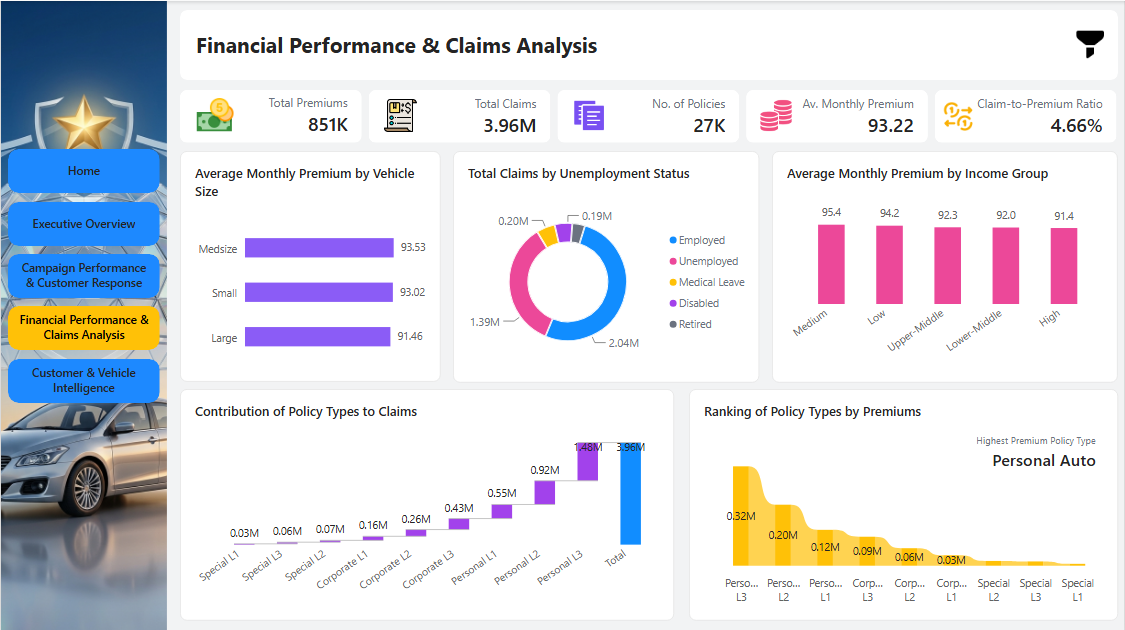

This screenshot's page, from the dashboard's own definition file:
{"tool":"powerbi","page":{"name":"Financial Performance & Claims Analysis","canvas":[1280,720],"ordinal":3},"visuals":[{"type":"image","box":[0,0,189.1,720],"z":0},{"type":"shape","box":[203.9,10.3,1068.6,79.7],"z":1000},{"type":"cardVisual","fields":{"Data":["DAX MEASURES.Total Premiums","DAX MEASURES.Total Claims","DAX MEASURES.No. of Policies1","DAX MEASURES.Av. Monthly Premium","DAX MEASURES.Claim-to-Premium Ratio"]},"box":[203.9,101.4,1069.7,60.4],"z":3000},{"type":"clusteredColumnChart","title":"Average Monthly Premium by Income Group","fields":{"Category":["Dim_Customers.Income Group"],"Y":["DAX MEASURES.Av. Monthly Premium"]},"box":[878.4,170.9,394.2,264.3],"z":4000},{"type":"donutChart","title":"Total Claims by Unemployment Status","fields":{"Category":["Dim_Customers.Employment_Status"],"Y":["DAX MEASURES.Total Claims"]},"box":[514.9,170.9,348.6,264.3],"z":5000},{"type":"waterfallChart","title":"Contribution of Policy Types to Claims","fields":{"Category":["Dim_Policies.Policy"],"Y":["DAX MEASURES.Total Claims"]},"box":[203.9,442,562.8,264.3],"z":6000},{"type":"clusteredBarChart","title":"Average Monthly Premium by Vehicle Size","fields":{"Category":["Dim_Vehicles.Vehicle_Size"],"Y":["DAX MEASURES.Av. Monthly Premium"]},"box":[203.9,170.9,297.3,263.2],"z":7000},{"type":"textbox","box":[222.2,33,500.1,34.2],"z":8000},{"type":"image","box":[1217.8,28.5,45.6,42.2],"z":9000},{"type":"ribbonChart","title":"Ranking of Policy Types by Premiums","fields":{"Category":["Dim_Policies.Policy"],"Y":["DAX MEASURES.Total Premiums"]},"box":[783.8,442,488.7,264.3],"z":10000},{"type":"cardVisual","fields":{"Data":["DAX MEASURES.Highest Premium Policy Type"]},"box":[1091.4,494.4,172,39.9],"z":11000},{"type":"pageNavigator","box":[8,168.6,173.2,50.1],"z":13000},{"type":"pageNavigator","box":[8,229,173.2,50.1],"z":14000},{"type":"pageNavigator","box":[8,288,173.2,50.1],"z":15000},{"type":"pageNavigator","box":[8,348,173.2,50.1],"z":16000},{"type":"pageNavigator","box":[8,408,173.2,50.1],"z":17000},{"type":"image","box":[1059.5,110.5,62.7,42.2],"z":17001}]}

Visuals, with their boxes on the page's 1280x720 design canvas (x1, y1, x2, y2). These are canvas units, not pixel positions in the 1125x630 screenshot, which may show the page scaled, cropped or inside an application window:
image: Rect(0, 0, 189, 720)
shape: Rect(204, 10, 1272, 90)
cardVisual - DAX MEASURES.Total Premiums x DAX MEASURES.Total Claims: Rect(204, 101, 1274, 162)
"Average Monthly Premium by Income Group" clusteredColumnChart: Rect(878, 171, 1273, 435)
"Total Claims by Unemployment Status" donutChart: Rect(515, 171, 864, 435)
"Contribution of Policy Types to Claims" waterfallChart: Rect(204, 442, 767, 706)
"Average Monthly Premium by Vehicle Size" clusteredBarChart: Rect(204, 171, 501, 434)
textbox: Rect(222, 33, 722, 67)
image: Rect(1218, 28, 1263, 71)
"Ranking of Policy Types by Premiums" ribbonChart: Rect(784, 442, 1272, 706)
cardVisual - DAX MEASURES.Highest Premium Policy Type: Rect(1091, 494, 1263, 534)
pageNavigator: Rect(8, 169, 181, 219)
pageNavigator: Rect(8, 229, 181, 279)
pageNavigator: Rect(8, 288, 181, 338)
pageNavigator: Rect(8, 348, 181, 398)
pageNavigator: Rect(8, 408, 181, 458)
image: Rect(1060, 110, 1122, 153)
